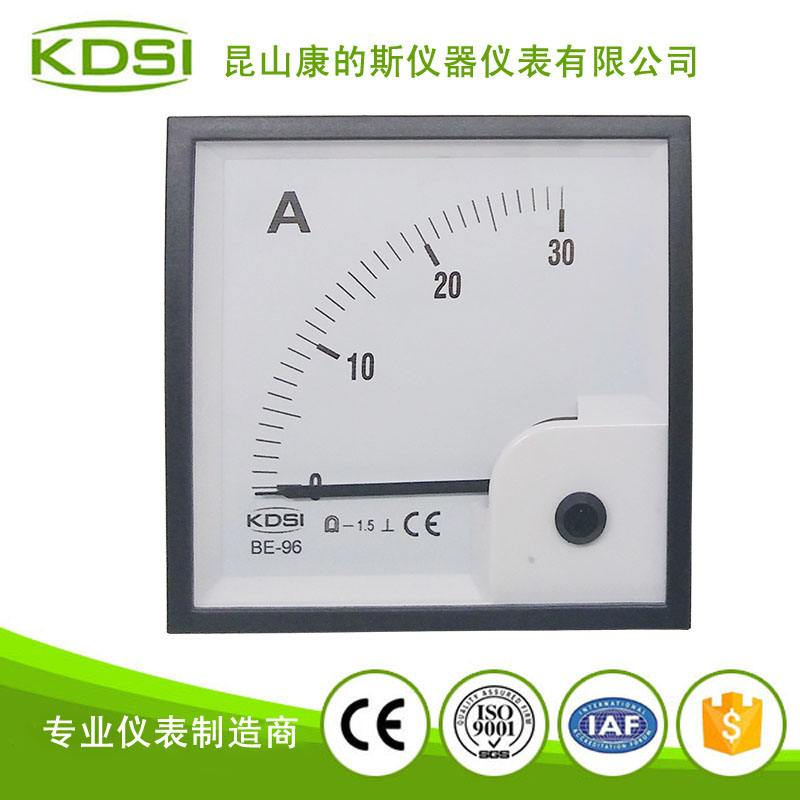pointer: (190, 137, 666, 606)
